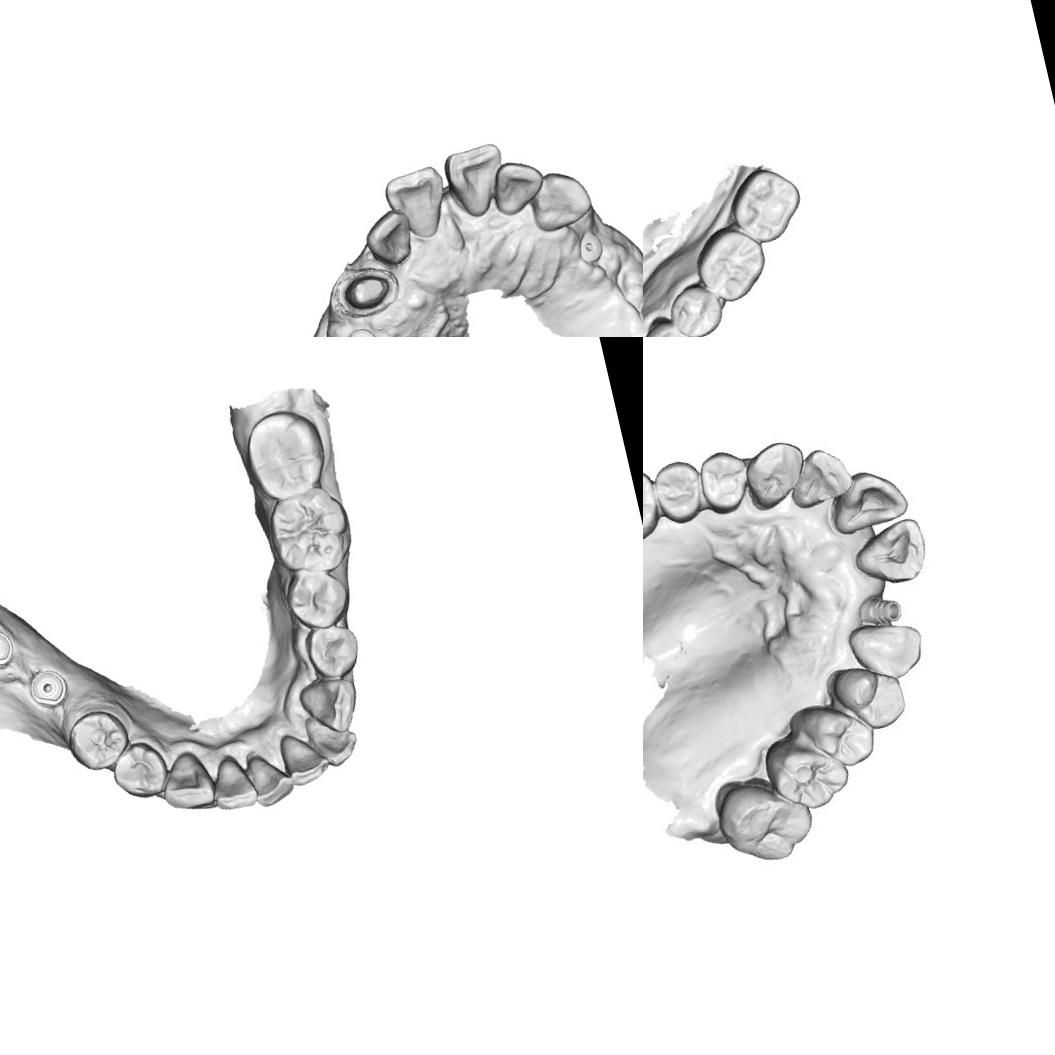canine: (846, 612, 930, 686), (740, 434, 812, 516), (523, 164, 597, 236), (294, 672, 368, 742), (152, 746, 216, 818)
crown: (337, 264, 399, 317)
implant: (848, 584, 908, 632), (24, 664, 73, 712), (573, 230, 607, 268), (0, 622, 16, 672)
implant_minus: (344, 324, 382, 337)
incisor: (844, 514, 934, 594), (823, 462, 913, 540), (438, 140, 516, 222), (380, 162, 456, 245), (782, 441, 860, 513), (487, 154, 551, 219), (302, 710, 364, 773), (240, 746, 298, 813), (359, 206, 418, 270), (275, 724, 332, 790), (206, 750, 262, 815)
molar: (708, 766, 820, 872), (236, 400, 335, 505), (260, 481, 361, 583), (762, 732, 854, 822), (723, 159, 812, 249), (686, 220, 769, 307), (643, 465, 664, 550)
premolar: (829, 653, 912, 738), (801, 694, 884, 776), (276, 564, 356, 638), (61, 704, 134, 778), (105, 736, 173, 806), (693, 444, 756, 518), (647, 454, 707, 530), (661, 276, 734, 337), (302, 620, 368, 684), (643, 307, 703, 337)
